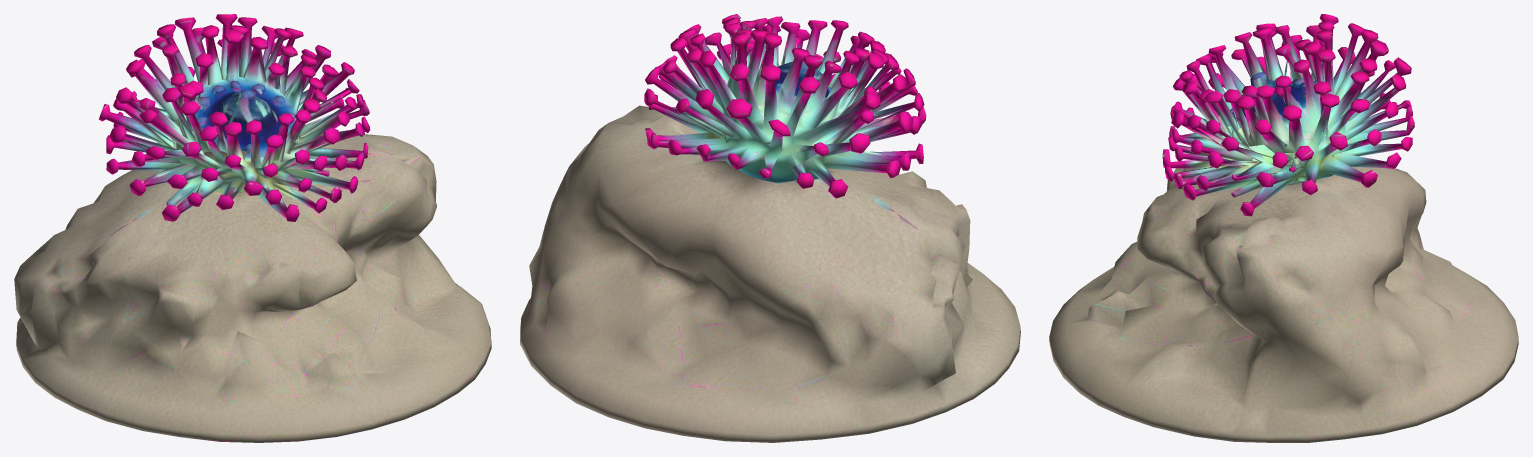
The model's file is anemone.glb.
3 renders of one model, left to right at view 1: azimuth 30°, elevation 25°; view 2: azimuth 150°, elevation 25°; view 3: azimuth 270°, elevation 25°, orthographic. The views are drawn at different scales.
Size of the model in its own units: 0.957 by 0.6797 by 0.9575.
Materials: 1 (1 with a texture image).
